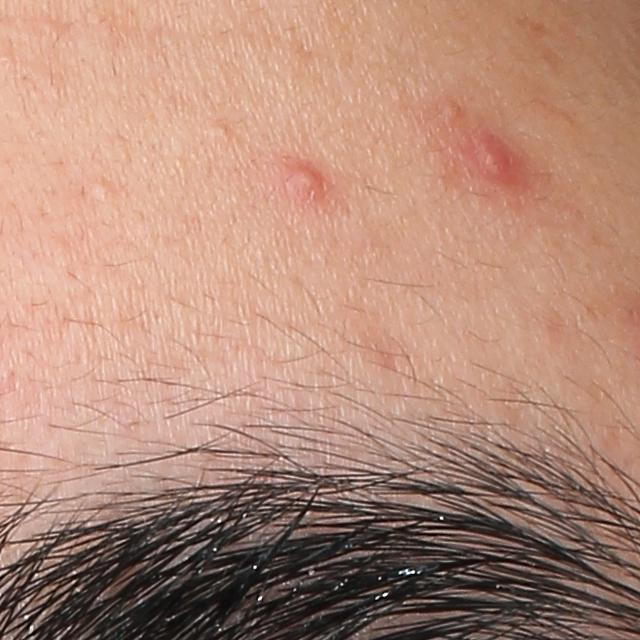comedo: (434, 95, 466, 121), (90, 177, 118, 206), (208, 122, 232, 137)
papule: (464, 129, 526, 191), (279, 159, 328, 208)
